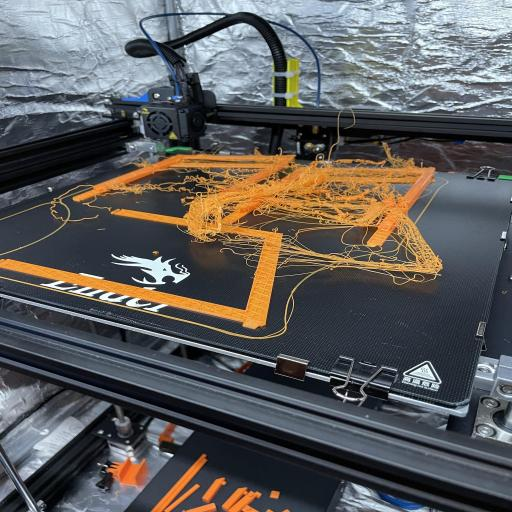spaghetti: (158, 151, 470, 290)
